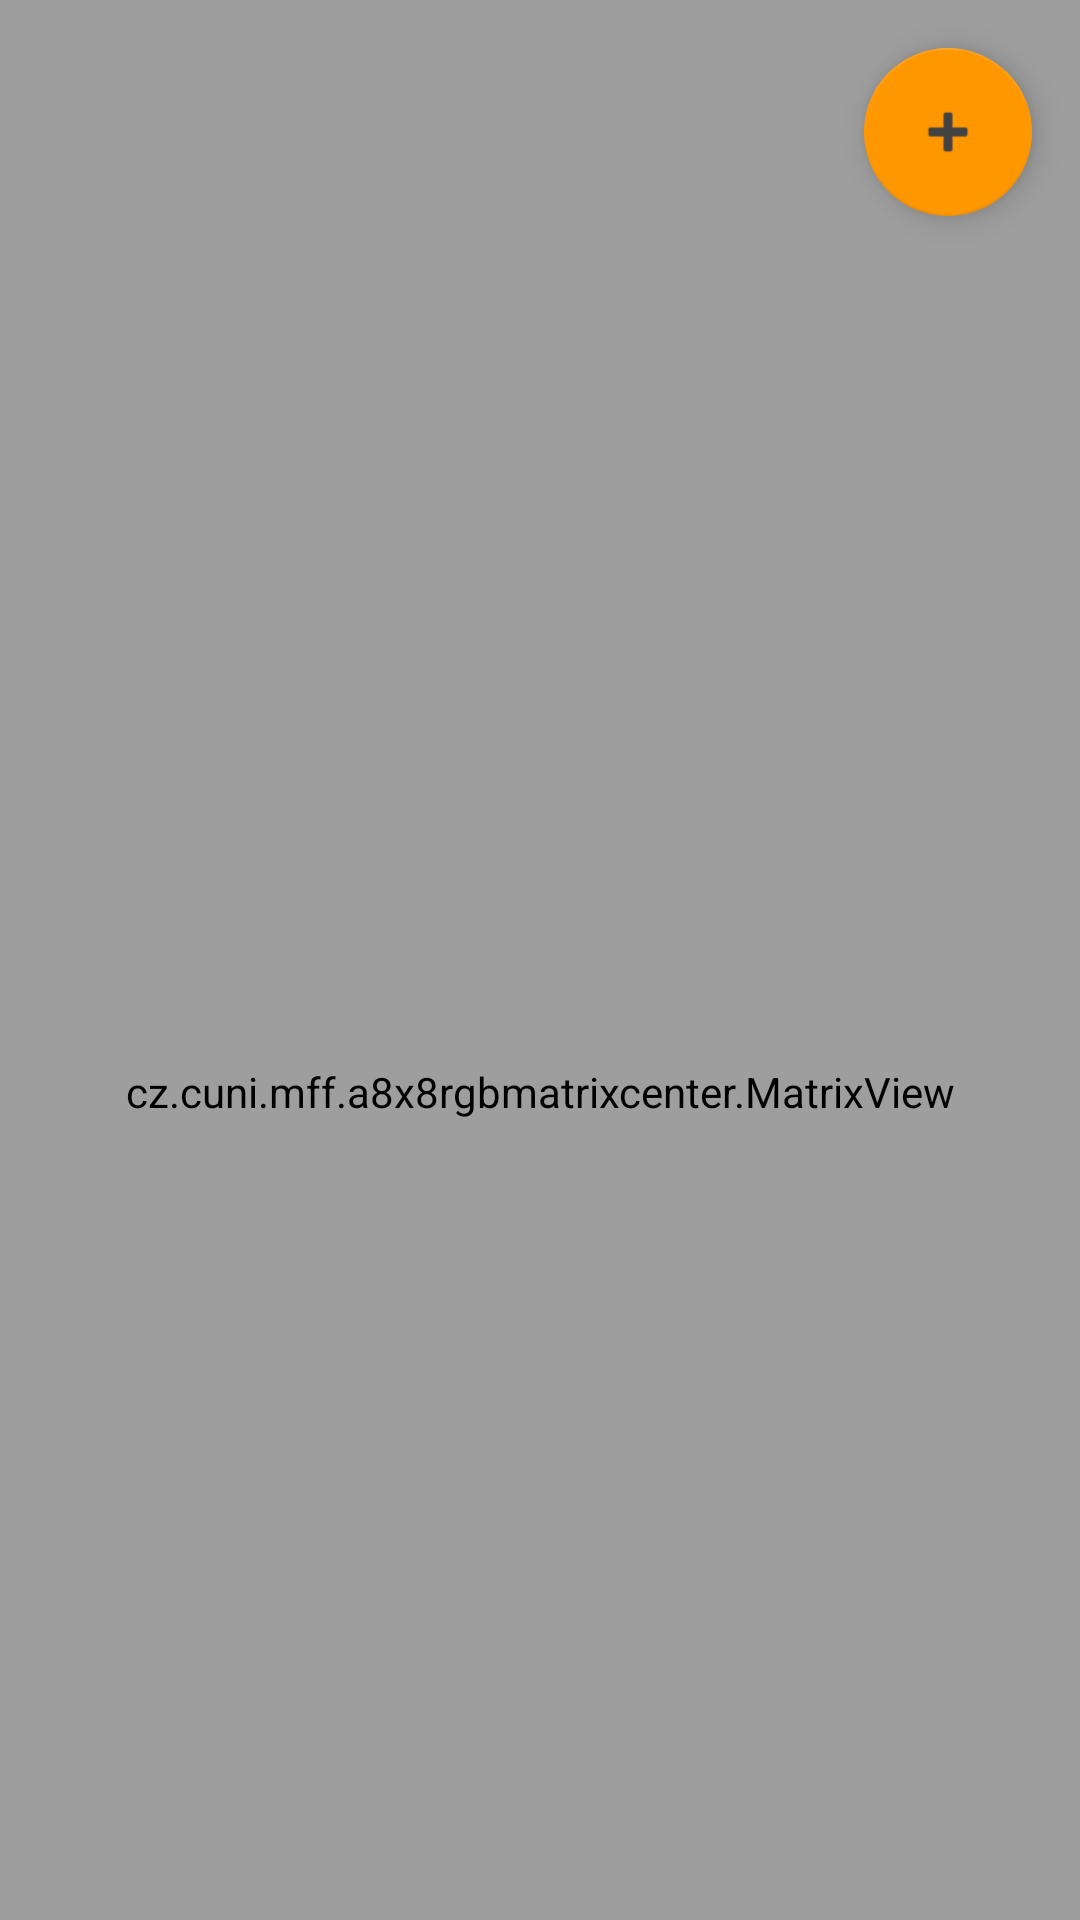

Where to tap for icons on this 1080x1920 app screen, as (x,y):
add: (948,132)
